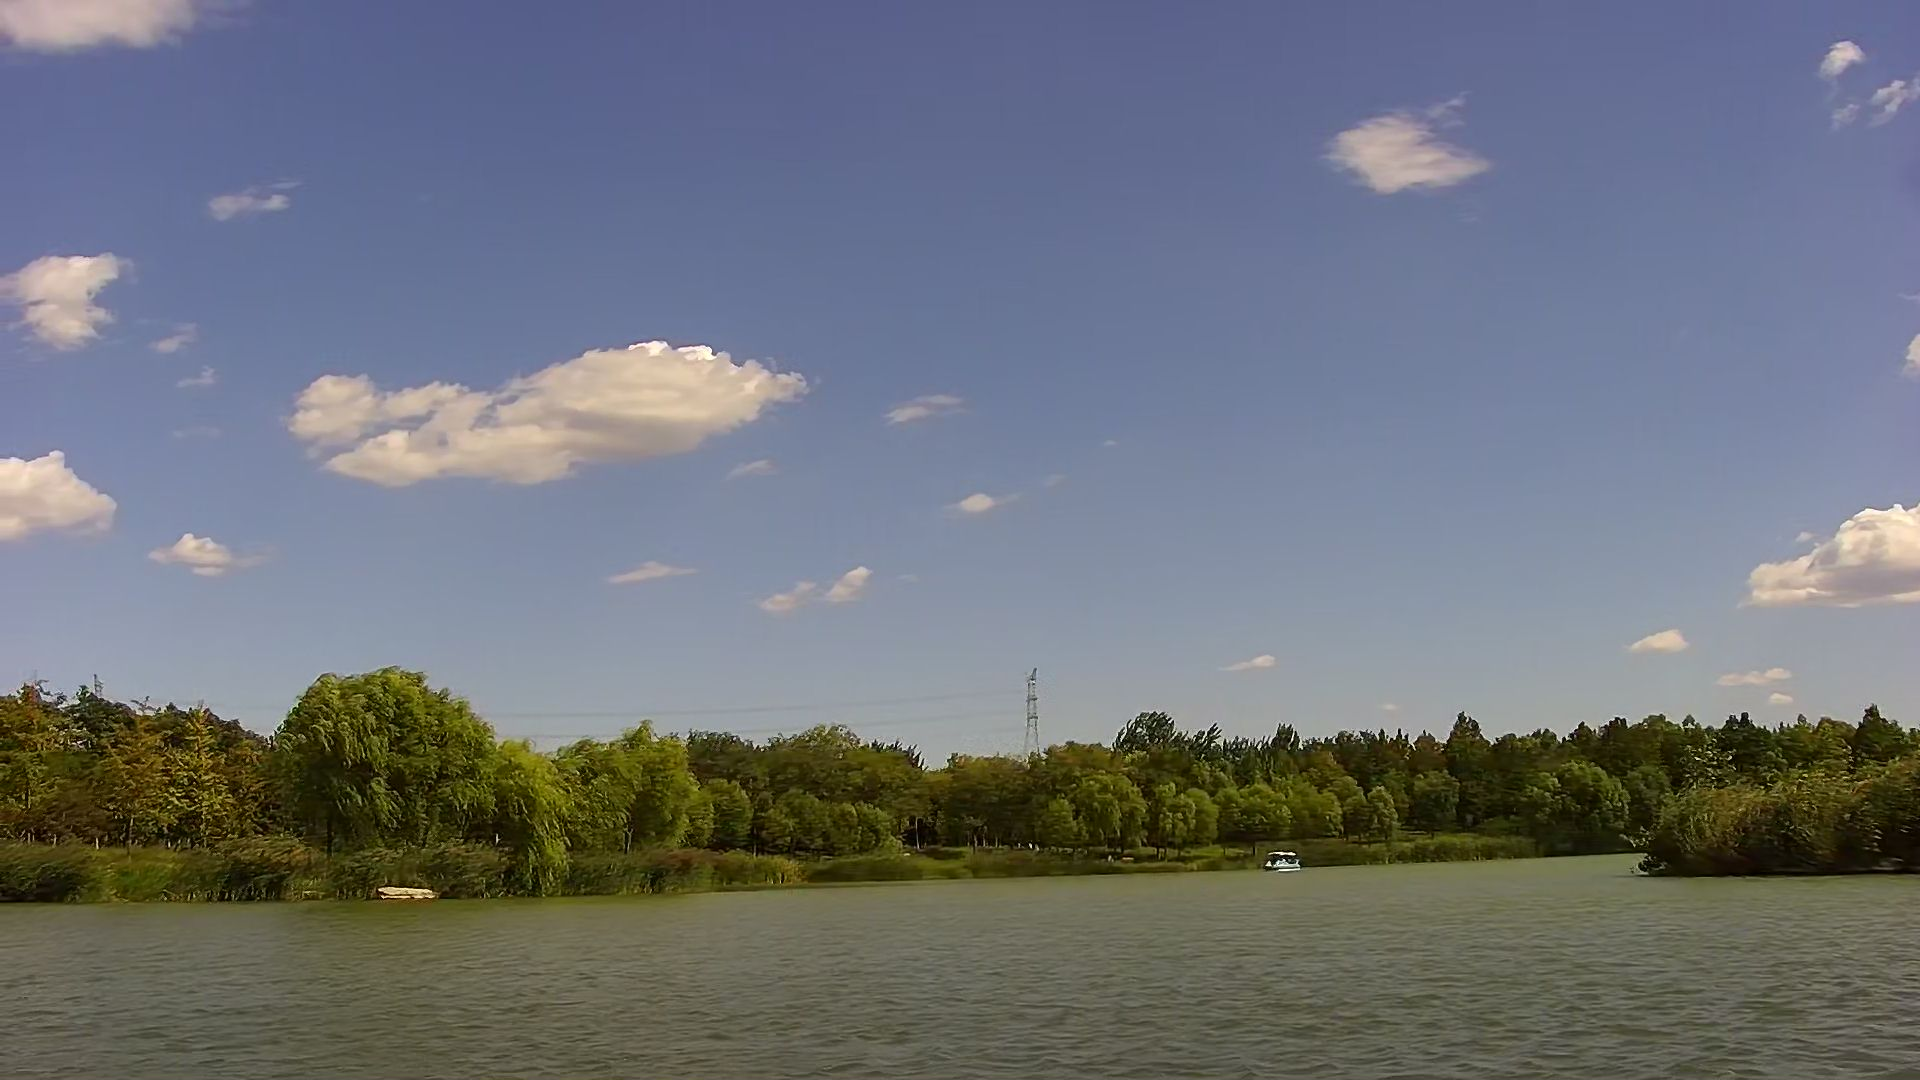boat: (1261, 851, 1304, 873)
